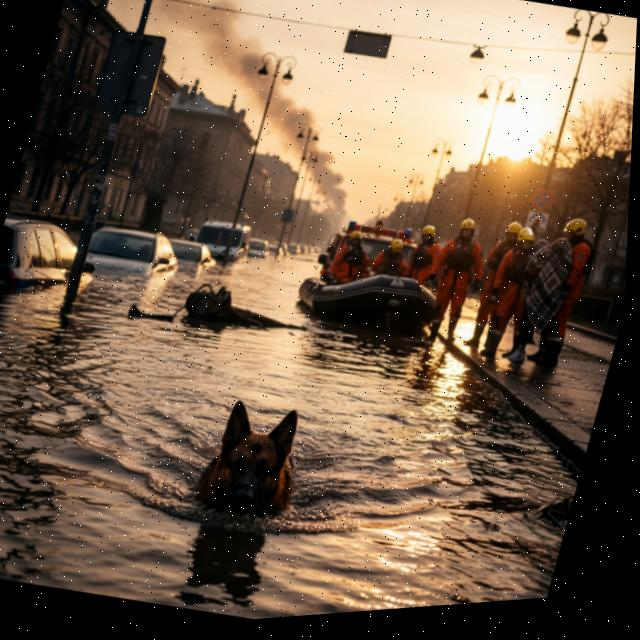dog: (171, 372, 344, 553)
rescuer: (518, 210, 612, 383), (474, 214, 551, 366), (420, 210, 498, 345), (461, 213, 532, 354), (321, 216, 383, 293), (398, 217, 456, 295), (368, 229, 415, 285)
